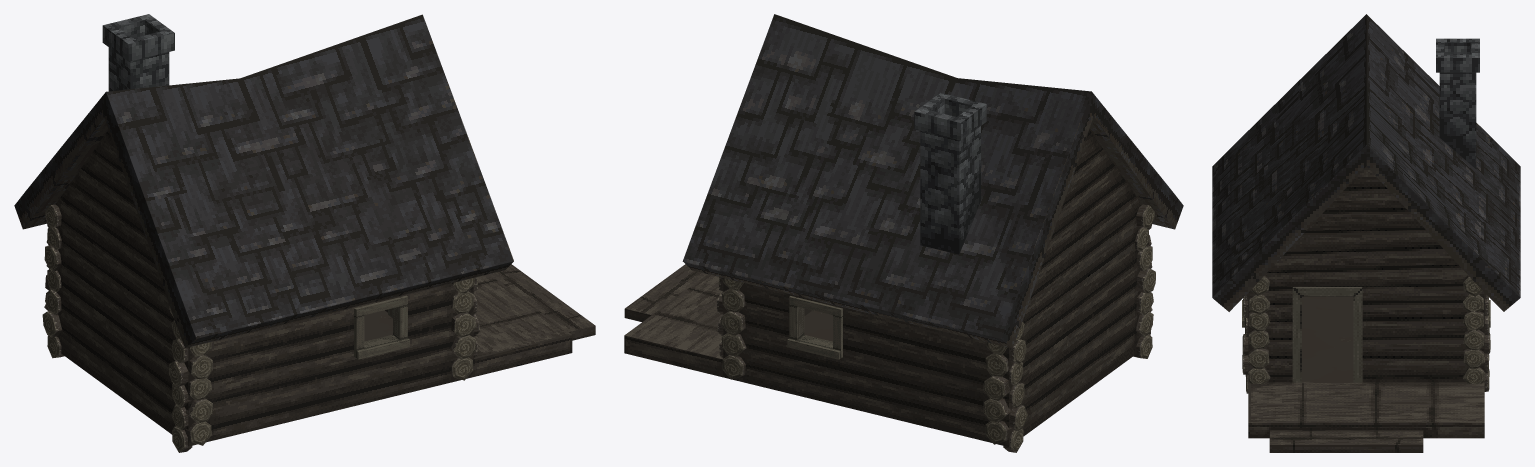
The model's file is Cabin1.glb.
3 views of the same model, side by side, from view 1: azimuth 30°, elevation 25°; view 2: azimuth 150°, elevation 25°; view 3: azimuth 270°, elevation 25° (orthographic). The views are drawn at different scales.
Parts seen in each view (by area): view 1: Roof, Main Body, Chimney, WindowFrame 2; view 2: Roof, Main Body, Chimney, WindowFrame 1; view 3: Roof, Main Body, Chimney, DoorFrame, Log5, Log10, Log11, Log9, Log2, Log4, Log3, Log12 (+2 smaller).
Part boxes in pixels (x1=…): Roof: x1=14, y1=14, x2=513, y2=347; Main Body: x1=49, y1=130, x2=595, y2=446; Chimney: x1=102, y1=14, x2=174, y2=91; WindowFrame 2: x1=354, y1=295, x2=409, y2=359; Roof: x1=682, y1=14, x2=1183, y2=348; Main Body: x1=624, y1=129, x2=1148, y2=446; Chimney: x1=914, y1=92, x2=986, y2=254; WindowFrame 1: x1=787, y1=296, x2=842, y2=359; Roof: x1=1212, y1=14, x2=1520, y2=311; Main Body: x1=1248, y1=166, x2=1484, y2=452; Chimney: x1=1436, y1=38, x2=1479, y2=168; DoorFrame: x1=1292, y1=287, x2=1362, y2=382; Log5: x1=1248, y1=348, x2=1269, y2=368; Log10: x1=1463, y1=330, x2=1484, y2=350; Log11: x1=1463, y1=349, x2=1484, y2=368; Log9: x1=1463, y1=311, x2=1484, y2=330; Log2: x1=1248, y1=294, x2=1270, y2=313; Log4: x1=1248, y1=330, x2=1269, y2=349; Log3: x1=1248, y1=312, x2=1269, y2=331; Log12: x1=1462, y1=367, x2=1484, y2=383.
Size of the model in its own units: 27.46 by 19.26 by 19.92.
Materials: 7 (7 with a texture image).
